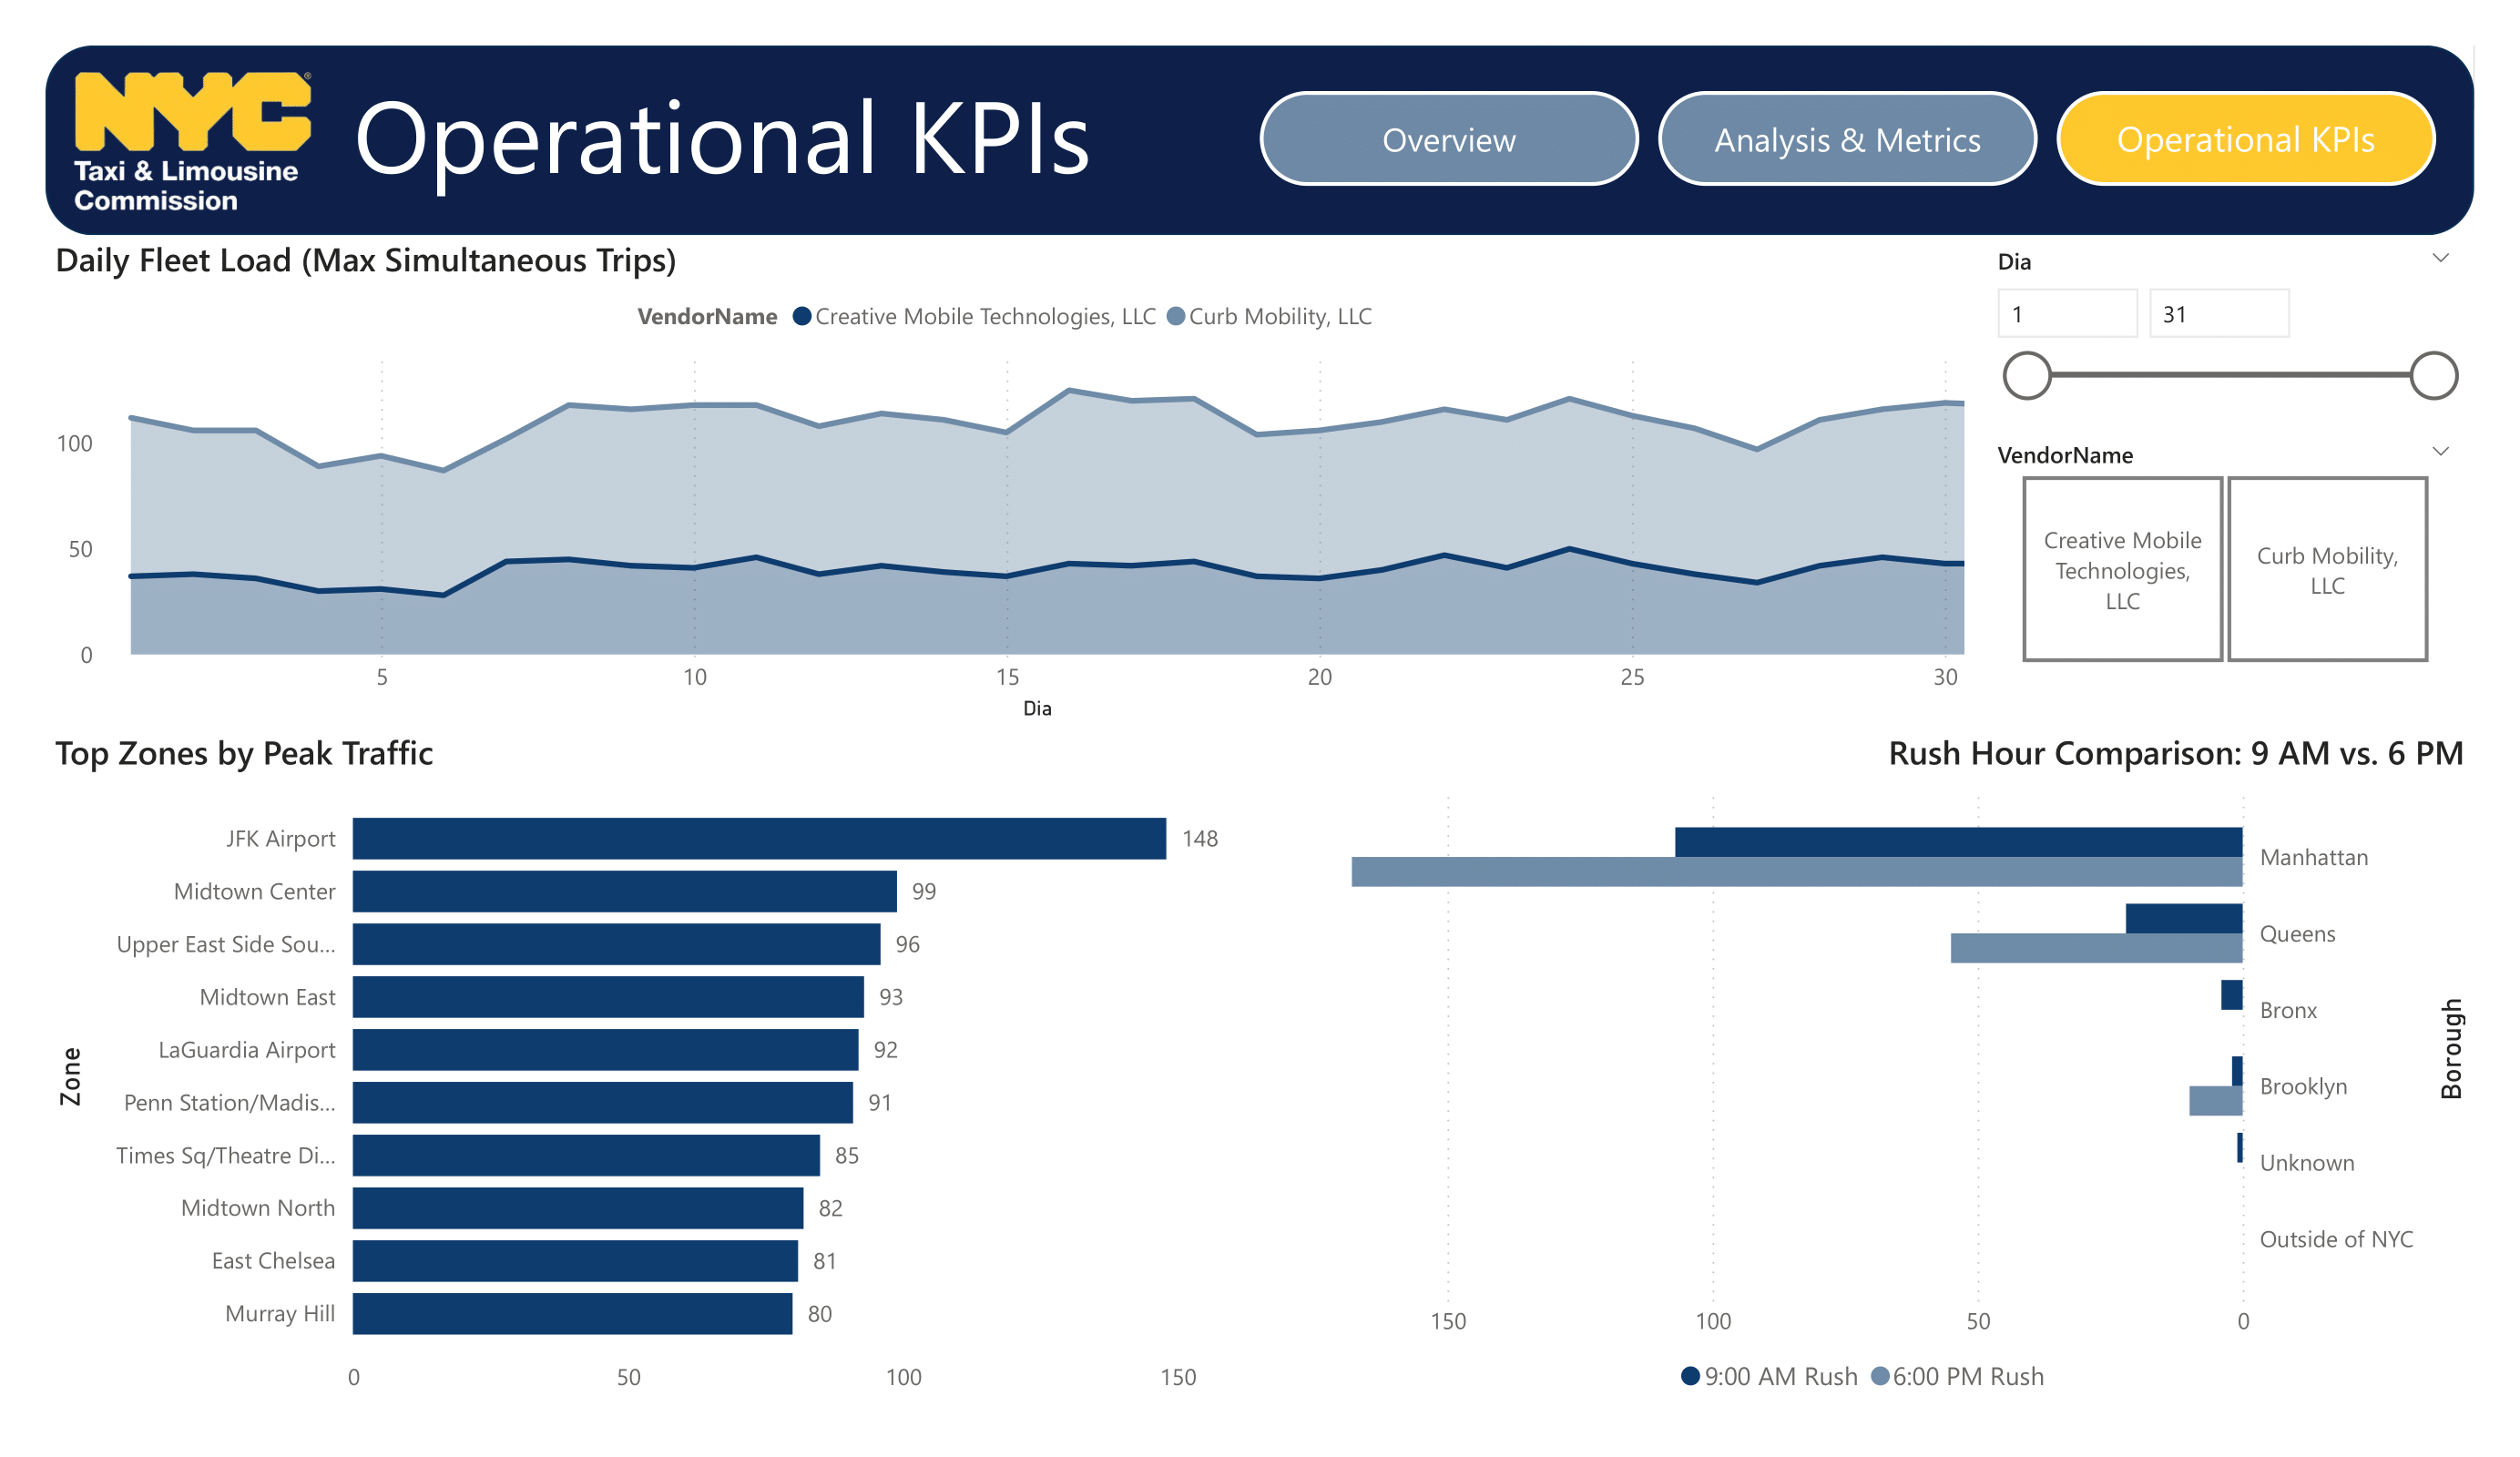

This screenshot's page, from the dashboard's own definition file:
{"tool":"powerbi","page":{"name":"Operational KPIs","canvas":[1280,720],"ordinal":2},"visuals":[{"type":"shape","box":[0,0,1280,100],"z":0,"group":"g1"},{"type":"group","id":"g1","title":"Grupo 1","box":[0,0,1280,100],"z":0},{"type":"pageNavigator","box":[640,24.2,620.9,50.4],"z":1000,"group":"g1"},{"type":"stackedAreaChart","title":"Daily Fleet Load (Max Simultaneous Trips)","fields":{"Category":["dw Dim_Date.FullDate.Variação.Hierarquia de Datas.Dia"],"Series":["dw Dim_Vendor.VendorName"],"Y":["Sum(dw Fact_Daily_ZoneVendor.MaxSimultaneousTrips)"]},"box":[0,100,1015.6,260],"z":1000},{"type":"textbox","box":[162.3,9.1,477.7,70.6],"z":2000,"group":"g1"},{"type":"clusteredBarChart","title":"Top Zones by Peak Traffic","fields":{"Category":["dw Dim_Location.Zone"],"Y":["Sum(dw Fact_Daily_ZoneVendor.MaxSimultaneousTrips)"]},"box":[0,360,640,360],"z":2000},{"type":"image","box":[0,9.1,155.5,81.8],"z":3000,"group":"g1"},{"type":"clusteredBarChart","title":"Rush Hour Comparison: 9 AM vs. 6 PM","fields":{"Category":["dw Dim_Location.Borough"],"Y":["Sum(dw Fact_Daily_ZoneVendor.OpenTripsAtPeakHourMorning)","Sum(dw Fact_Daily_ZoneVendor.OpenTripsAtPeakHourNight)"]},"box":[640,360,640,360],"z":3000},{"type":"slicer","fields":{"Values":["dw Dim_Date.FullDate.Variação.Hierarquia de Datas.Dia"]},"box":[1015.6,100,264.4,102.2],"z":4000},{"type":"slicer","fields":{"Values":["dw Dim_Vendor.VendorName"]},"box":[1015.6,202.2,264.4,130],"z":5000}]}

Visuals, with their boxes on the page's 1280x720 design canvas (x1, y1, x2, y2). These are canvas units, not pixel positions in the 2520x1457 screenshot, which may show the page scaled, cropped or inside an application window:
shape: box=[0, 0, 1280, 100]
"Grupo 1" group: box=[0, 0, 1280, 100]
pageNavigator: box=[640, 24, 1261, 75]
"Daily Fleet Load (Max Simultaneous Trips)" stackedAreaChart: box=[0, 100, 1016, 360]
textbox: box=[162, 9, 640, 80]
"Top Zones by Peak Traffic" clusteredBarChart: box=[0, 360, 640, 720]
image: box=[0, 9, 156, 91]
"Rush Hour Comparison: 9 AM vs. 6 PM" clusteredBarChart: box=[640, 360, 1280, 720]
slicer - dw Dim_Date.FullDate.Variação.Hierarquia de Datas.Dia: box=[1016, 100, 1280, 202]
slicer - dw Dim_Vendor.VendorName: box=[1016, 202, 1280, 332]
